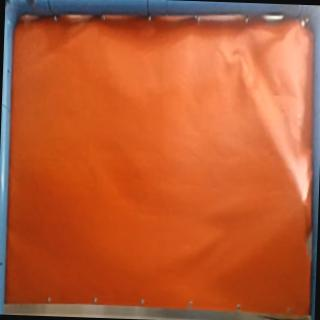Hit-hRxx: (298, 191, 312, 211)
